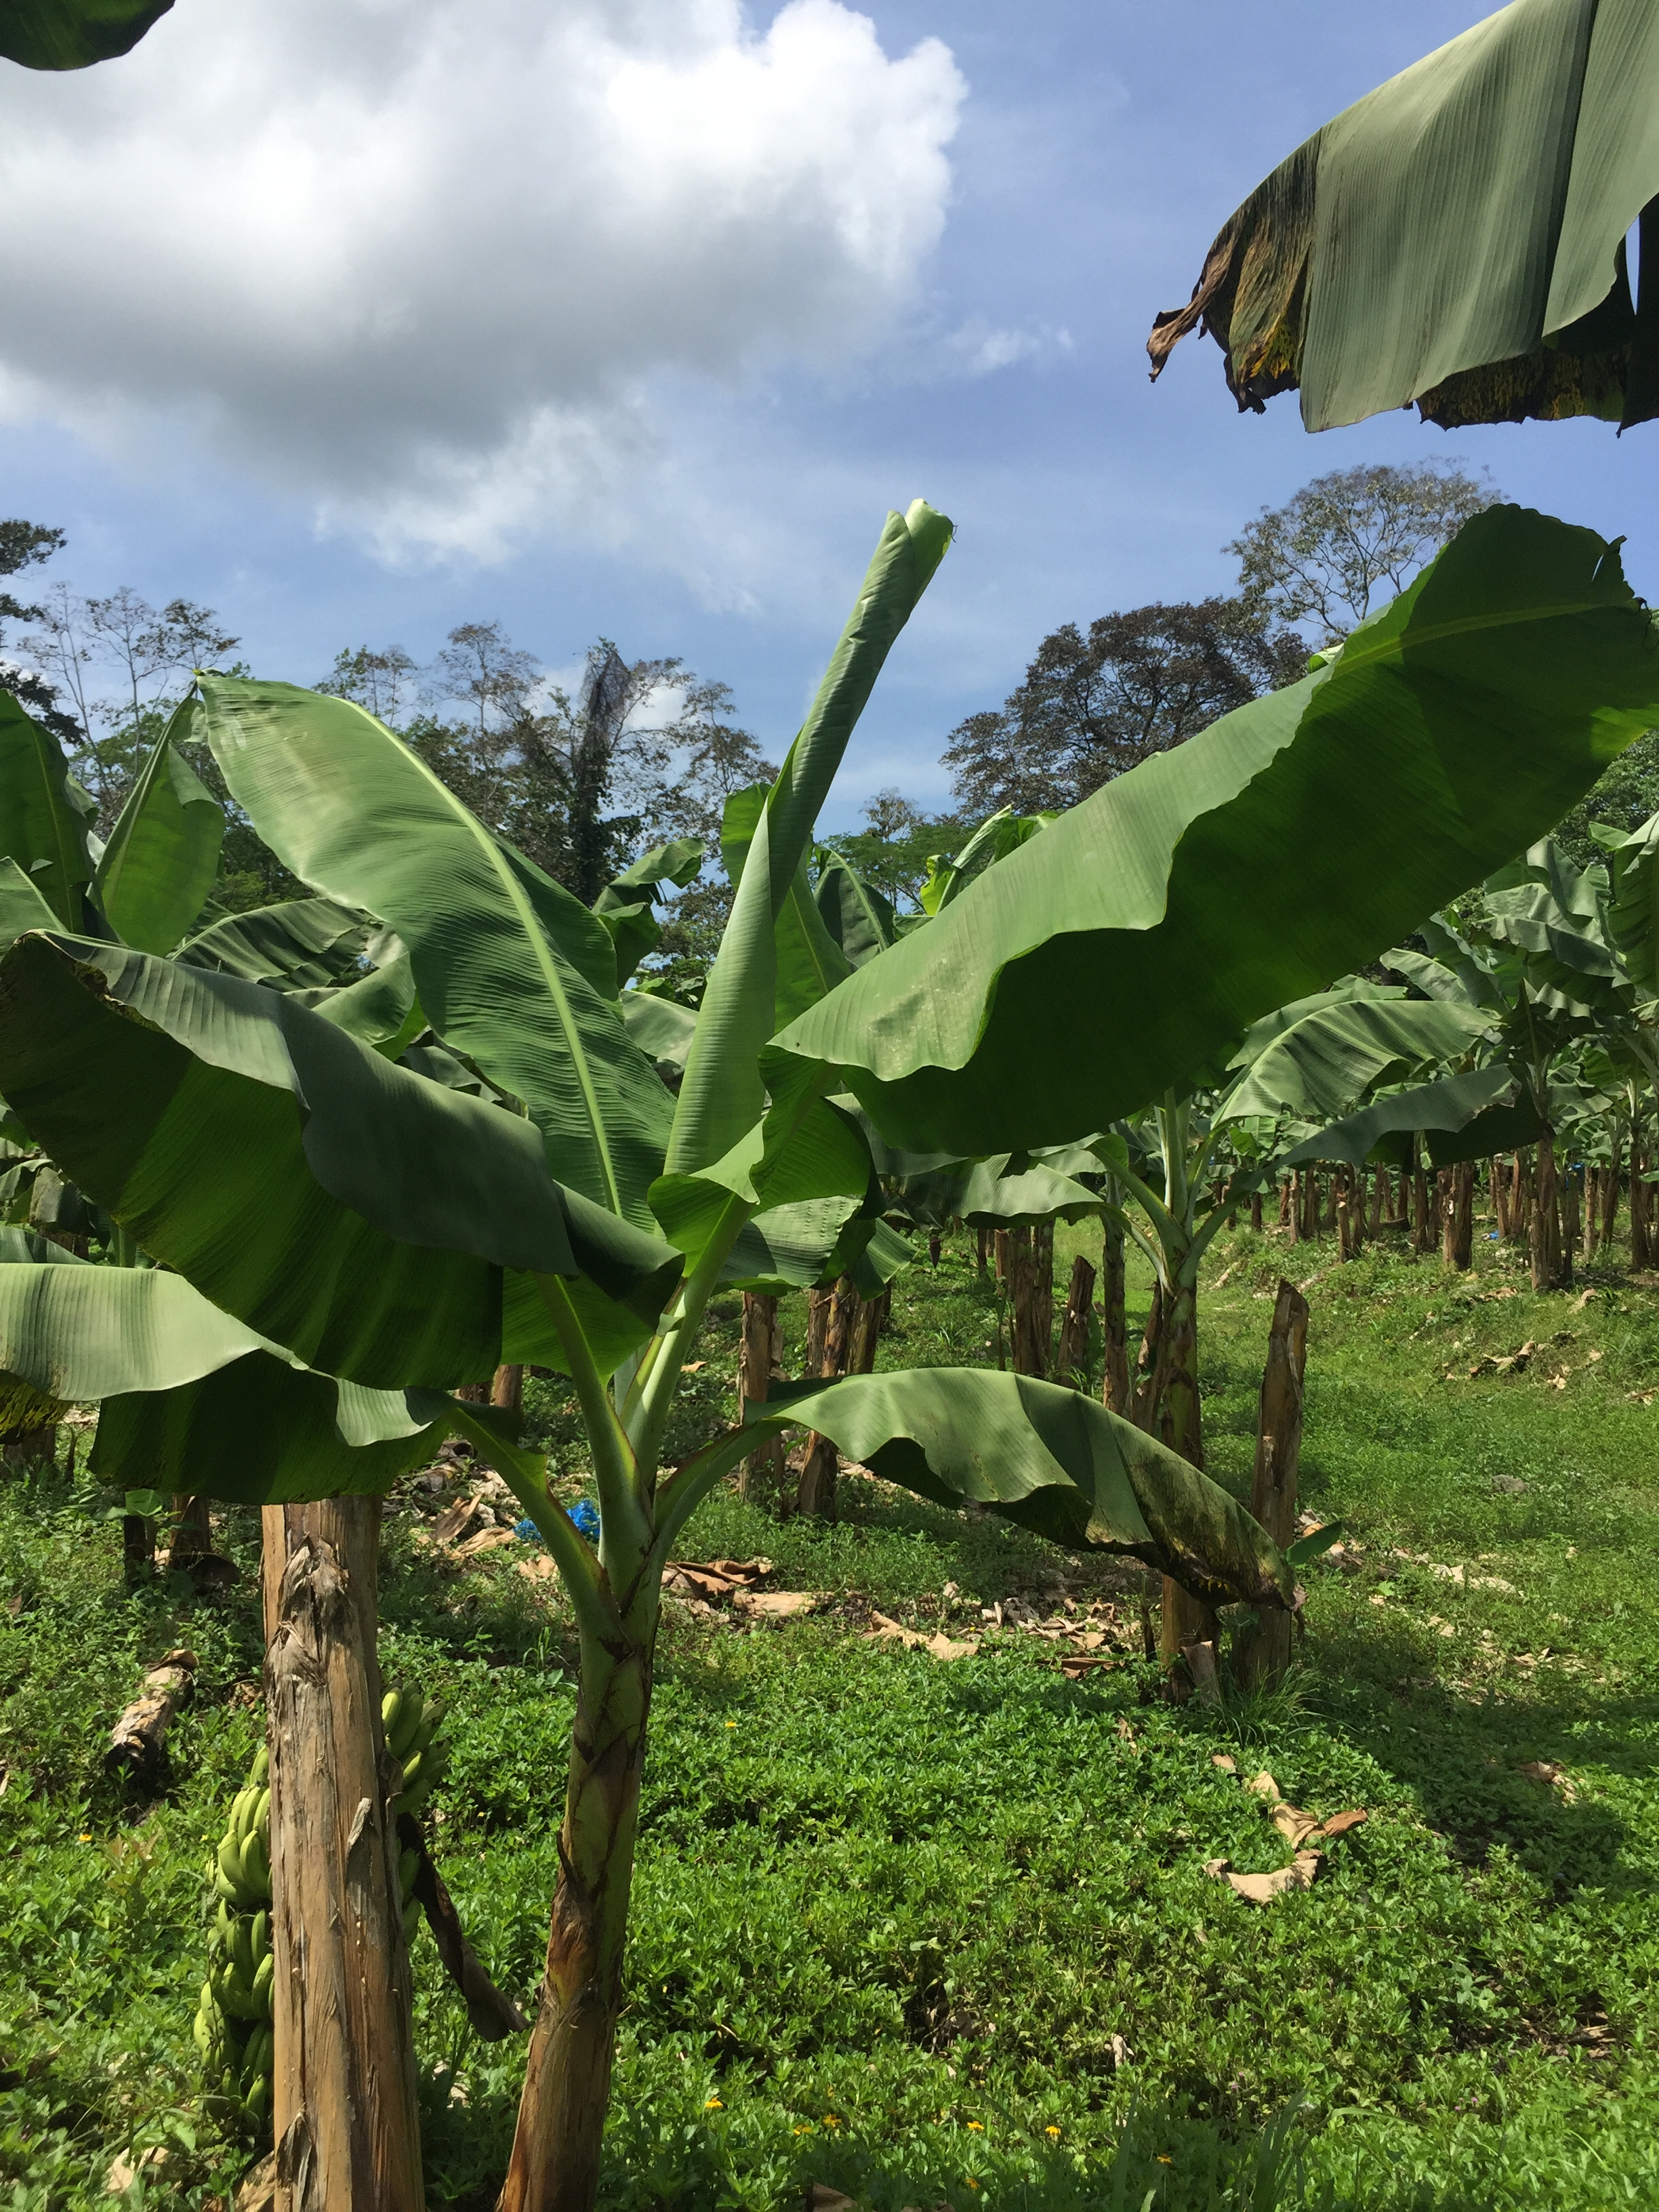candleleafs: (671, 498, 955, 1163)
